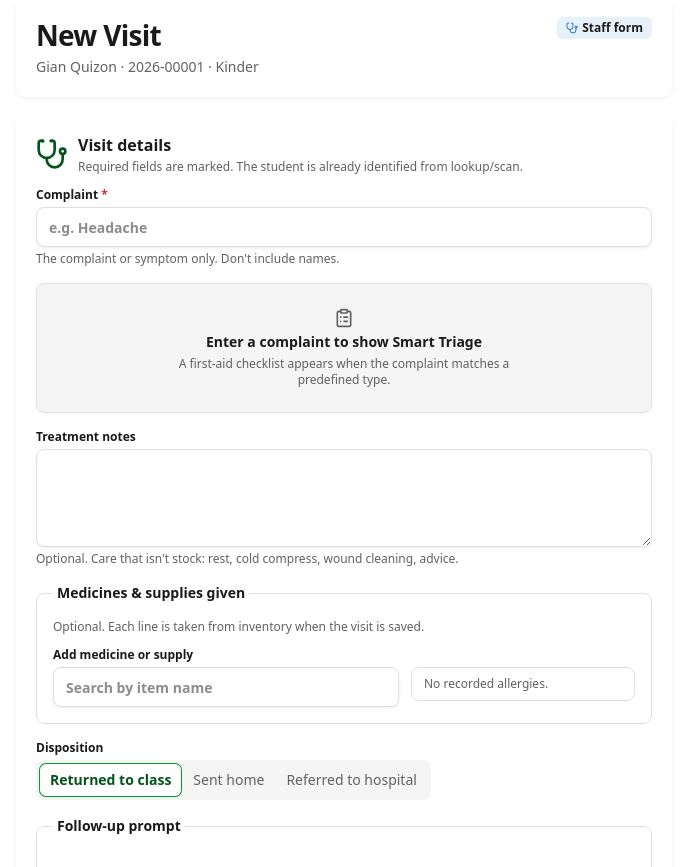
Test: New Visit › suggests complaints as you type, at most 8, and saves free text with no checklist
Expected: the heading "New Visit" is shown, top-left (36, 16), bottom-right (161, 54)
Click the dropdown labelled "Complaint *" at (344, 227), box top-left (36, 207), bottom-right (652, 247)
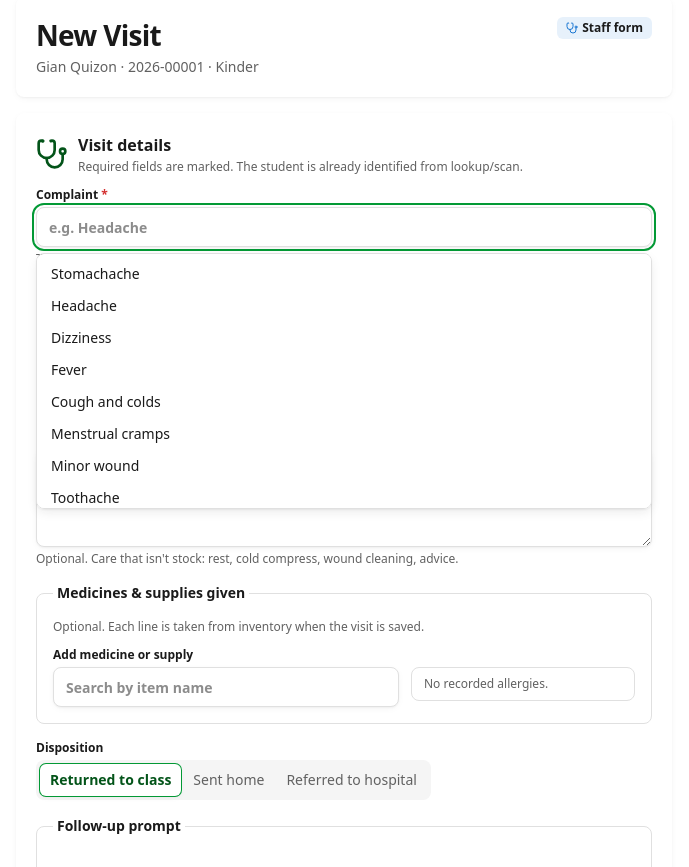
Expected: the number of options is 8
Type "ache" into the dropdown labelled "Complaint *" at (344, 227), box top-left (36, 207), bottom-right (652, 247)
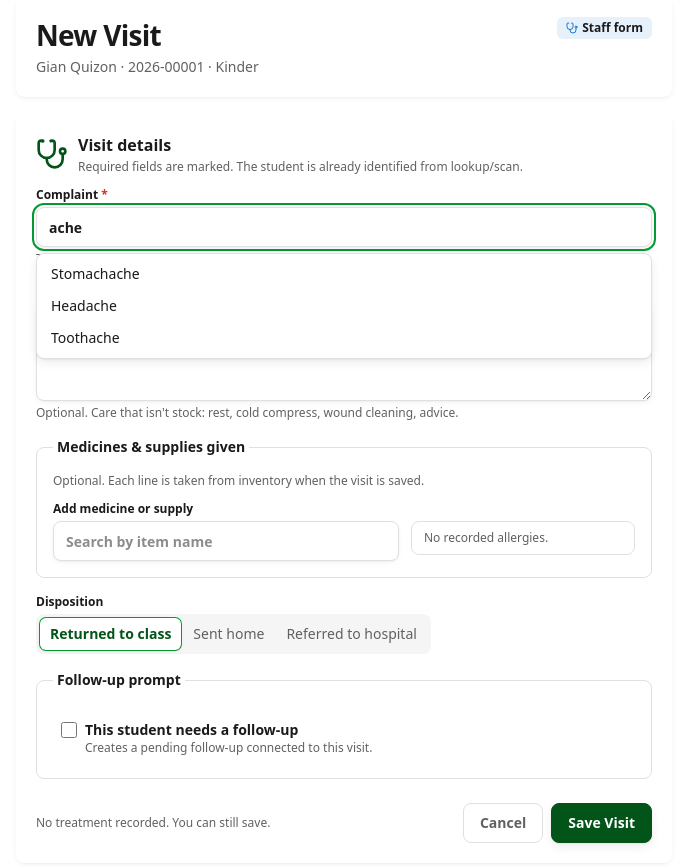
Replace the text in the dropdown labelled "Complaint *" with "  Nose   bleed " at (344, 227), box top-left (36, 207), bottom-right (652, 247)
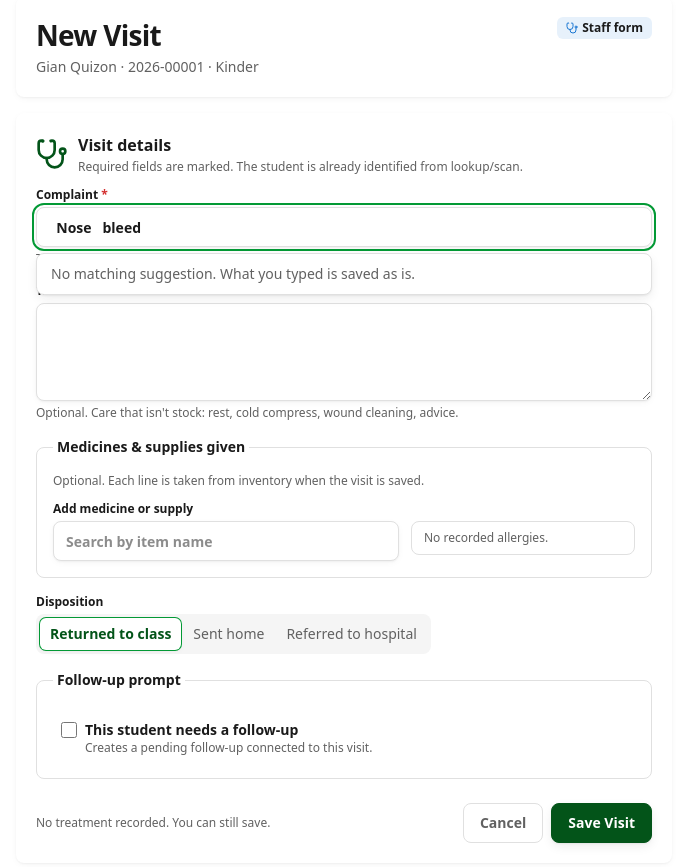
Type "Pinched nose, leaned forward." into the text box labelled "Treatment notes" at (344, 352), box top-left (36, 303), bottom-right (652, 401)
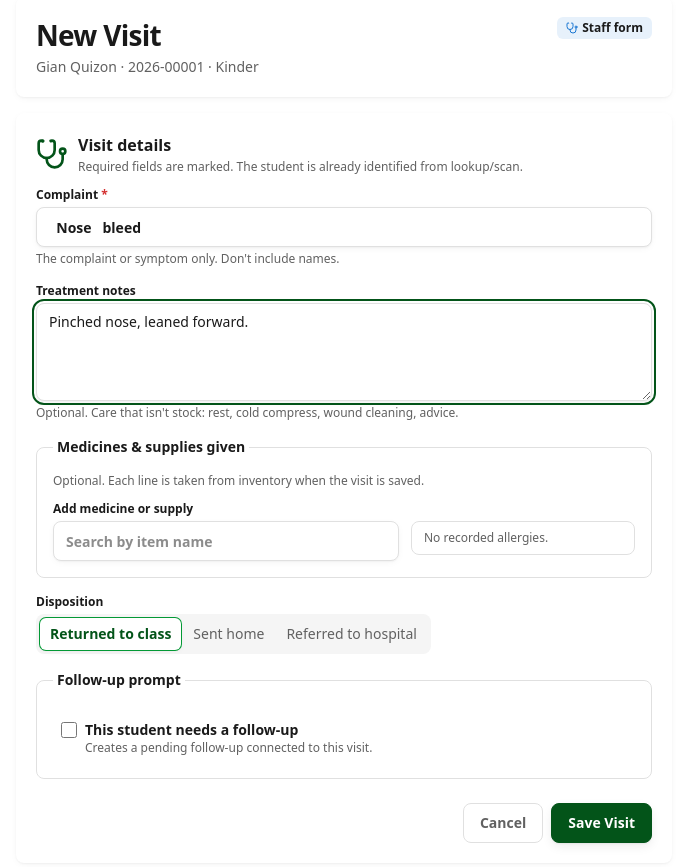
Click the button "Save Visit" at (602, 823), box top-left (551, 803), bottom-right (652, 843)
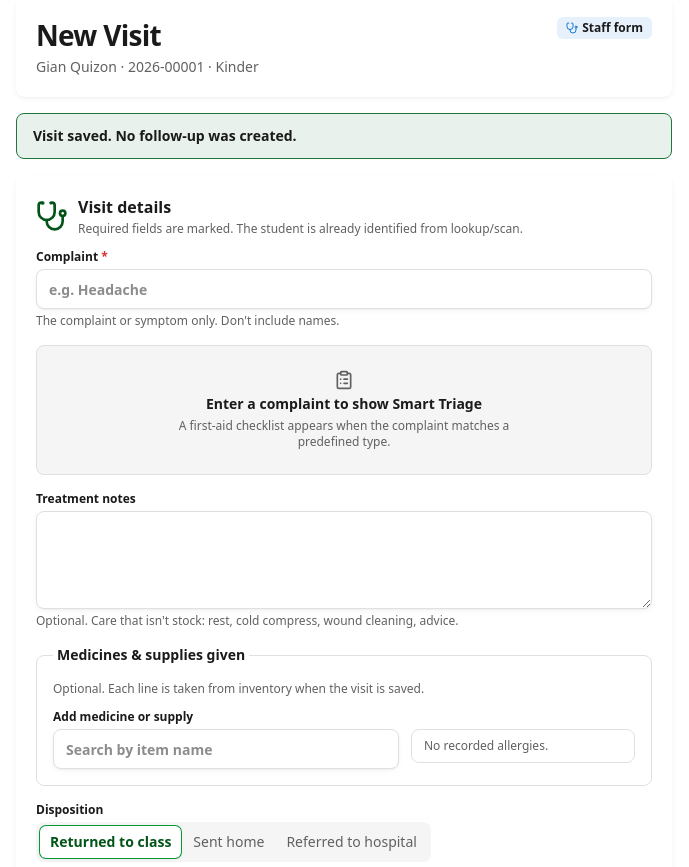
Expected: the text "Visit saved. No follow-up was created." is shown, top-left (16, 113), bottom-right (672, 159)
